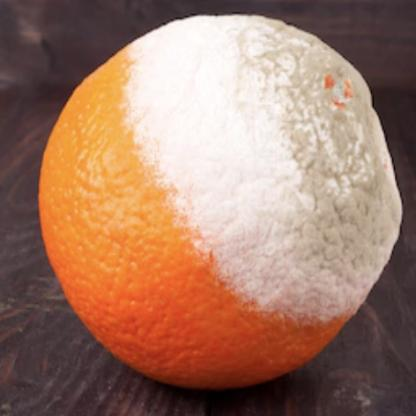rotten: (40, 12, 408, 388)
